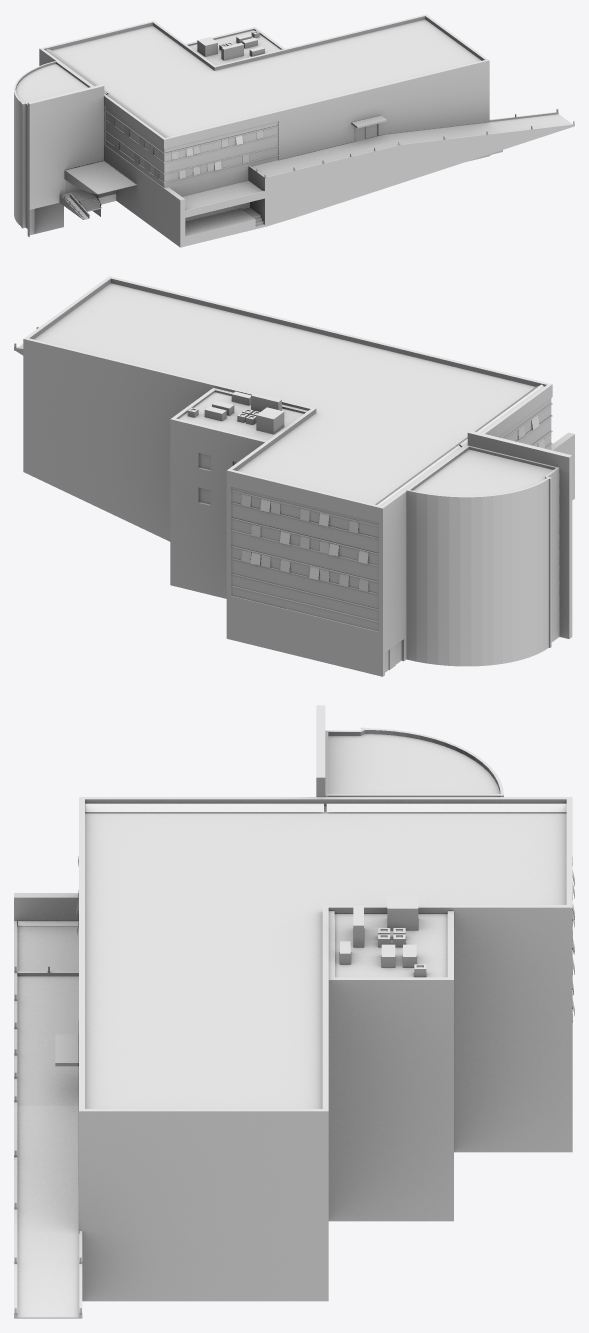
The model's file is hub.glb.
The picture shows the model from 3 angles, top to bottom: view 1: azimuth 30°, elevation 25°; view 2: azimuth 150°, elevation 25°; view 3: azimuth 270°, elevation 25°; orthographic projection. The views are drawn at different scales.
Parts seen in each view (by area): view 1: sae; view 2: sae; view 3: sae.
Part boxes in pixels (x1=…): sae: x1=14, y1=14, x2=574, y2=247; sae: x1=14, y1=276, x2=574, y2=676; sae: x1=14, y1=705, x2=574, y2=1318.
Bounding box in the file's own units: 19.99 × 5.44 × 10.46.
Materials: 1 (1 with a texture image).
